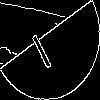I: (25, 24, 54, 71)
